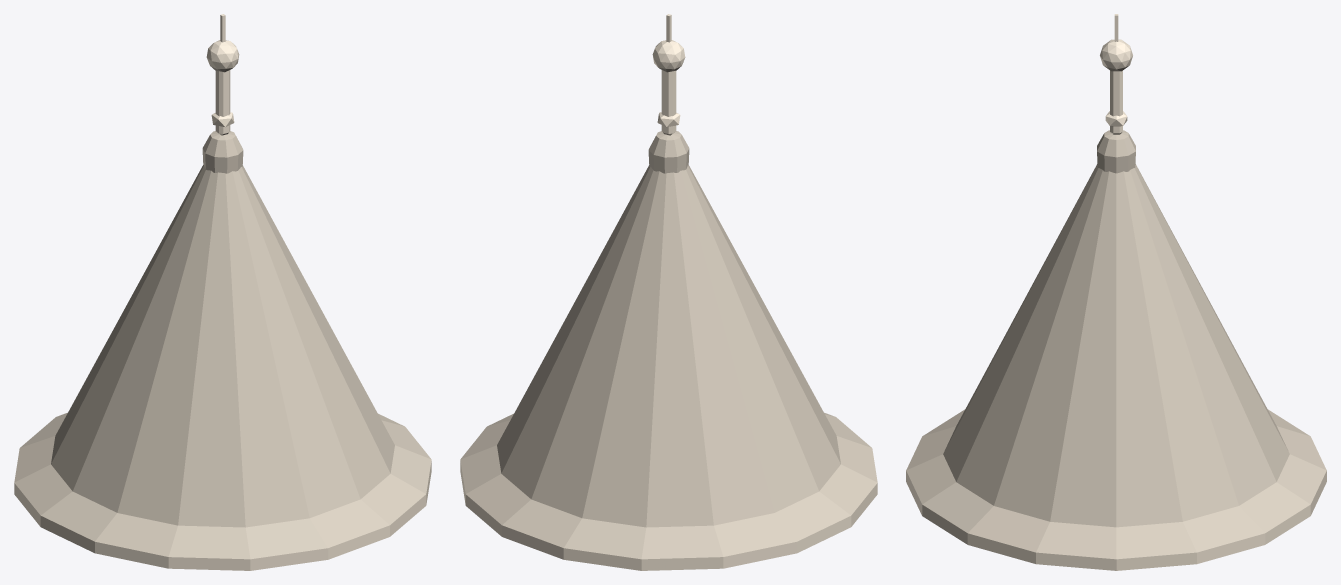
Rendered from SM_VK_Turret_Cap.fbx.
3 renders of one model, left to right at view 1: azimuth 30°, elevation 25°; view 2: azimuth 150°, elevation 25°; view 3: azimuth 270°, elevation 25°, orthographic.
Visible parts, largest first — view 1: SM_VK_Turret_Cap.001; view 2: SM_VK_Turret_Cap.001; view 3: SM_VK_Turret_Cap.001.
Part boxes in pixels (left/top/right/bottom): SM_VK_Turret_Cap.001: left=14, top=14, right=431, bottom=570; SM_VK_Turret_Cap.001: left=460, top=14, right=877, bottom=570; SM_VK_Turret_Cap.001: left=906, top=14, right=1326, bottom=570.
Size of the model in its own units: 3.28 by 4.01 by 3.28.
